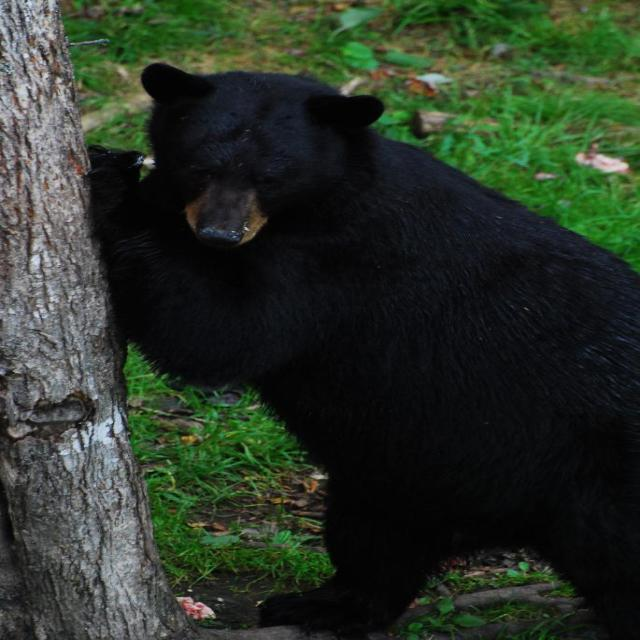Buffalo: (80, 61, 640, 640)
